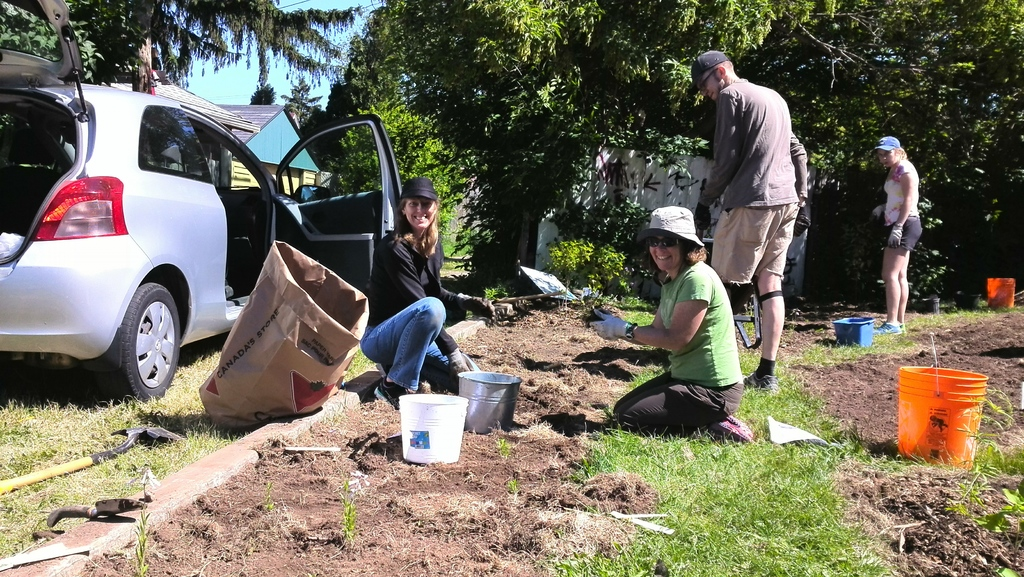Car: (0, 0, 403, 407)
